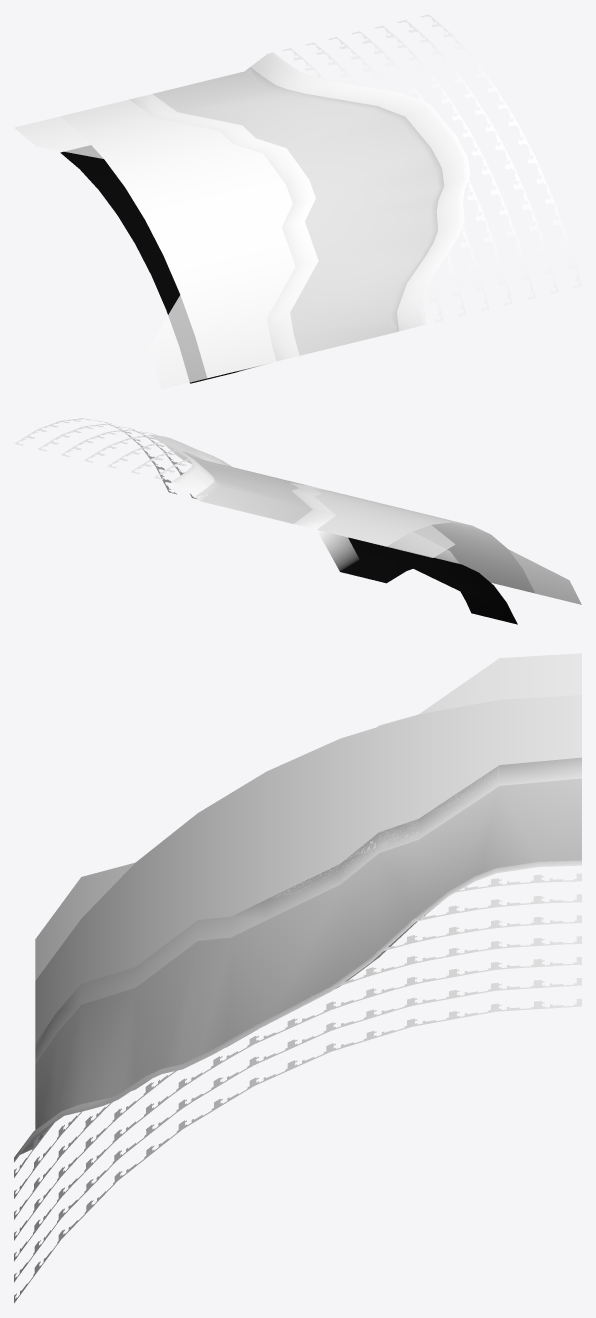
The model's file is grd_Iw_1.dae.
3 views of the same model, one above another, from view 1: azimuth 30°, elevation 25°; view 2: azimuth 150°, elevation 25°; view 3: azimuth 270°, elevation 25° (orthographic). The views are drawn at different scales.
Parts seen in each view (by area): view 1: beach_0_0, ocean_4_0, wave_5_0, beach_1_0, beach_cliff_2_0, grass_3_0; view 2: beach_1_0, ocean_4_0, wave_5_0, beach_0_0, grass_3_0, beach_cliff_2_0; view 3: ocean_4_0, beach_0_0, wave_5_0, beach_1_0, grass_3_0, beach_cliff_2_0.
Boxes of the visible parts, box(x1,y1,x2,y2) form: beach_0_0: box(153, 67, 444, 355); ocean_4_0: box(60, 99, 295, 378); wave_5_0: box(14, 100, 295, 389); beach_1_0: box(60, 94, 318, 383); beach_cliff_2_0: box(245, 52, 470, 331); grass_3_0: box(282, 14, 581, 322); beach_1_0: box(290, 482, 517, 624); ocean_4_0: box(293, 484, 535, 593); wave_5_0: box(314, 490, 581, 604); beach_0_0: box(182, 451, 312, 523); grass_3_0: box(14, 418, 196, 498); beach_cliff_2_0: box(150, 434, 231, 500); ocean_4_0: box(35, 695, 581, 1042); beach_0_0: box(35, 778, 581, 1129); wave_5_0: box(35, 653, 581, 988); beach_1_0: box(35, 757, 581, 1063); grass_3_0: box(14, 873, 581, 1303); beach_cliff_2_0: box(14, 860, 581, 1162).
Bounding box in the file's own units: 576 × 244 × 368.
6 materials, 1 textured.
